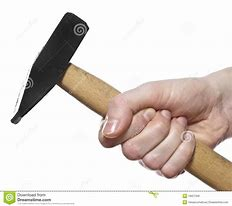hammer: (9, 10, 232, 192)
